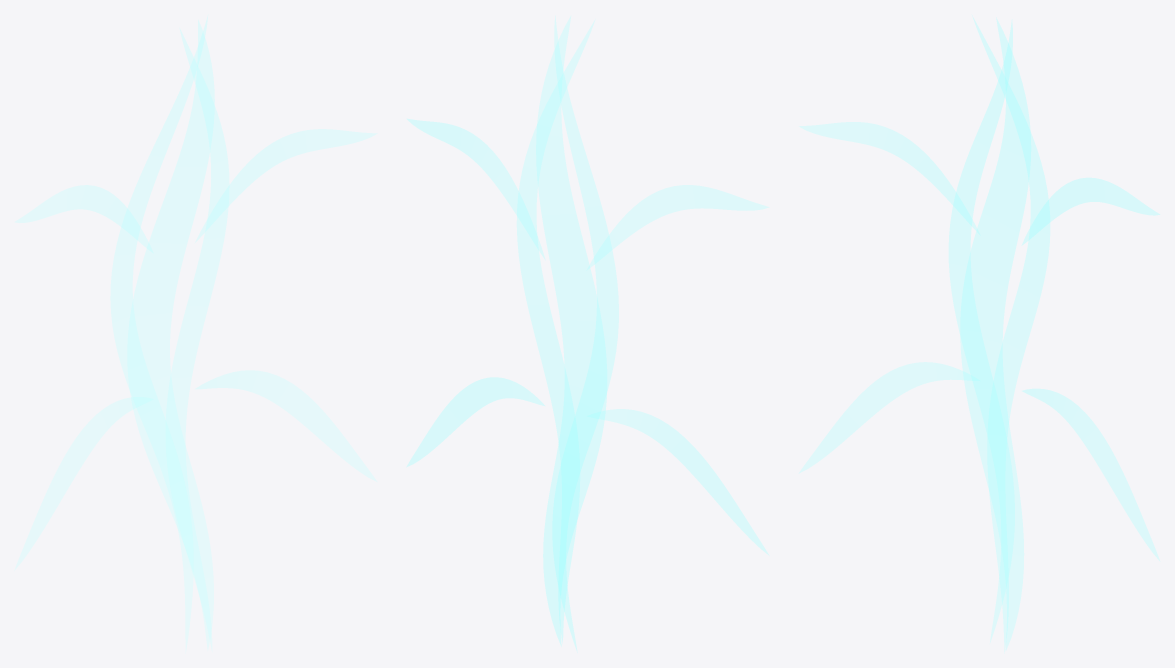
The model's file is qi-skyfall-r3.glb.
The picture shows the model from 3 angles, left to right: view 1: azimuth 30°, elevation 25°; view 2: azimuth 150°, elevation 25°; view 3: azimuth 330°, elevation 25°; orthographic projection.
Visible parts, largest first — view 1: qi-skyfall-r3; view 2: qi-skyfall-r3; view 3: qi-skyfall-r3.
Part boxes in pixels (box(x1,y1,x2,y2)): qi-skyfall-r3: box(15, 17, 376, 649); qi-skyfall-r3: box(407, 16, 768, 649); qi-skyfall-r3: box(799, 18, 1159, 651).
Size of the model in its own units: 1.44 by 2.4 by 0.19.
